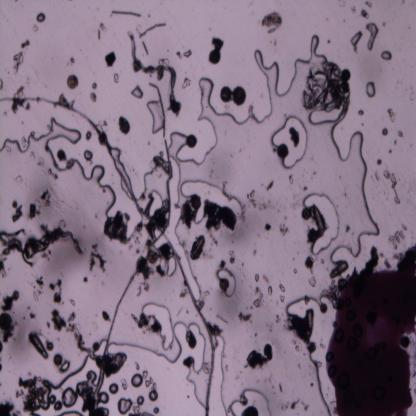Air bubble: (0, 96, 215, 416), (190, 31, 326, 129), (0, 117, 115, 211), (323, 117, 381, 260), (286, 291, 337, 414), (172, 77, 230, 185), (170, 318, 208, 406), (180, 178, 245, 227), (303, 193, 340, 256), (271, 116, 308, 170), (107, 339, 183, 364), (141, 300, 174, 350), (208, 334, 228, 416), (230, 387, 274, 416), (217, 270, 238, 298), (148, 100, 164, 136), (308, 107, 341, 124), (78, 370, 98, 394), (147, 189, 163, 216), (365, 23, 379, 52), (61, 388, 77, 408), (118, 396, 134, 415), (164, 257, 177, 278), (130, 86, 144, 99), (97, 390, 110, 404), (351, 30, 362, 46), (380, 49, 394, 61), (365, 82, 376, 97), (186, 134, 197, 148), (131, 374, 142, 388), (108, 382, 119, 396), (58, 410, 82, 416), (60, 359, 70, 373), (83, 149, 94, 161), (148, 390, 158, 402), (54, 399, 62, 413), (136, 395, 145, 406), (36, 13, 46, 22), (49, 394, 56, 404), (382, 126, 388, 136)
Background material: (304, 60, 350, 116), (18, 372, 50, 413), (89, 350, 127, 377), (100, 211, 130, 245), (286, 310, 316, 343), (242, 341, 278, 368), (67, 312, 90, 354), (308, 205, 328, 246), (136, 252, 154, 294), (27, 332, 54, 359), (129, 311, 161, 332), (383, 169, 401, 206), (12, 40, 30, 76), (88, 243, 108, 275), (259, 10, 283, 36), (386, 221, 408, 249), (11, 85, 31, 113), (245, 188, 268, 212), (48, 278, 63, 306), (50, 308, 68, 331), (1, 291, 20, 312), (249, 285, 265, 309), (53, 147, 70, 168), (142, 369, 159, 389), (330, 260, 348, 278), (30, 277, 45, 298), (289, 125, 301, 149), (277, 219, 292, 238), (103, 48, 117, 68), (11, 201, 24, 222), (184, 329, 198, 347), (58, 94, 76, 108), (27, 201, 41, 219), (0, 400, 15, 416), (39, 190, 53, 207), (118, 116, 130, 134), (237, 310, 252, 323), (96, 24, 108, 40), (277, 282, 287, 301), (2, 329, 14, 344), (30, 156, 44, 168), (155, 263, 166, 278), (46, 167, 58, 180), (176, 50, 191, 60), (382, 258, 392, 272), (388, 107, 396, 124), (14, 174, 25, 186), (228, 250, 237, 264), (218, 260, 227, 274), (308, 274, 317, 288), (300, 400, 310, 412), (290, 397, 299, 410), (183, 357, 193, 368), (100, 312, 110, 323), (360, 9, 371, 19), (89, 90, 98, 102), (84, 129, 92, 141), (261, 272, 269, 284), (265, 182, 274, 192), (266, 284, 272, 298), (288, 173, 294, 187), (264, 223, 273, 232), (274, 314, 281, 325), (365, 0, 374, 8), (357, 108, 365, 117), (278, 382, 284, 394), (254, 272, 260, 282), (0, 80, 5, 91), (398, 129, 404, 138), (114, 76, 121, 83), (376, 158, 382, 166), (92, 82, 98, 90)
Cellulose filter fibre: (127, 31, 179, 100), (0, 229, 84, 259)
Diatom: (100, 256, 148, 358), (144, 139, 171, 258), (148, 82, 167, 138), (138, 23, 166, 38), (111, 7, 141, 19), (191, 238, 206, 261), (232, 85, 247, 106), (190, 191, 202, 211), (220, 86, 232, 103), (0, 313, 13, 328), (67, 73, 79, 89), (277, 144, 289, 159), (243, 405, 260, 415), (219, 277, 230, 292), (210, 48, 221, 63), (342, 68, 352, 83), (306, 341, 318, 353), (170, 101, 181, 113), (53, 354, 63, 367), (141, 41, 150, 55), (302, 208, 312, 219), (320, 302, 328, 314), (92, 341, 100, 352), (306, 257, 313, 269)
Pen: (326, 246, 416, 416)
